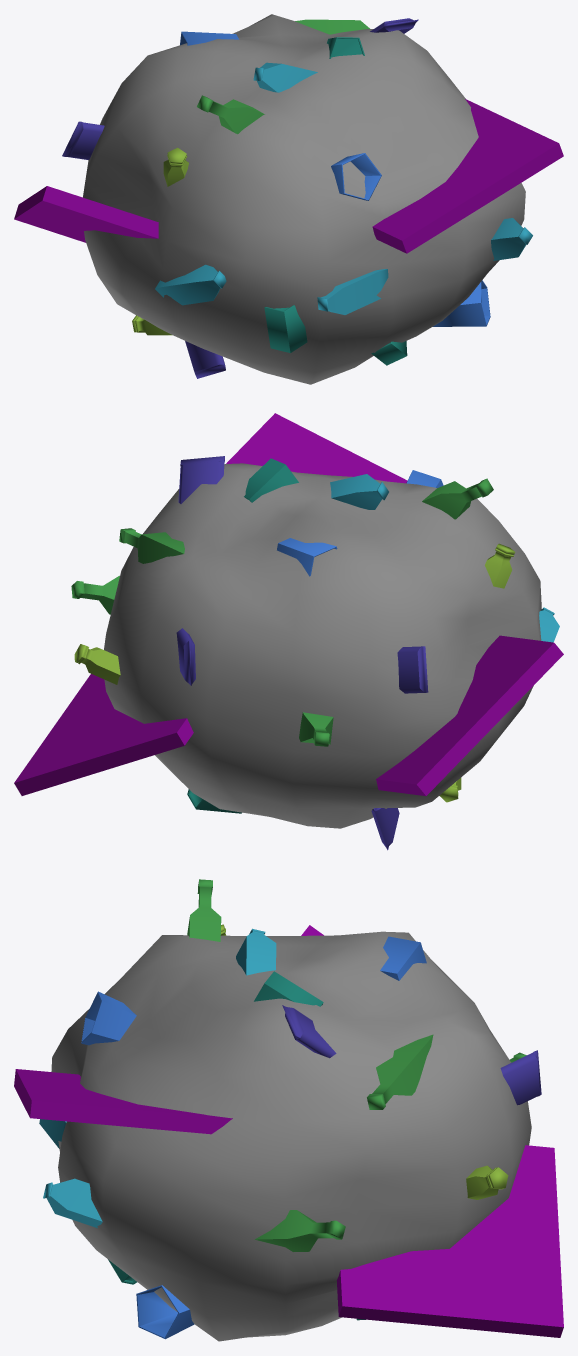
The model's file is Garbage_Pile.fbx.
The picture shows the model from 3 angles, top to bottom: view 1: azimuth 30°, elevation 25°; view 2: azimuth 150°, elevation 25°; view 3: azimuth 270°, elevation 25°; orthographic projection. The views are drawn at different scales.
Parts seen in each view (by area): view 1: Garbage Lump; view 2: Garbage Lump; view 3: Garbage Lump.
Part boxes in pixels (x1=…): Garbage Lump: x1=14, y1=14, x2=563, y2=384; Garbage Lump: x1=14, y1=413, x2=563, y2=850; Garbage Lump: x1=14, y1=879, x2=563, y2=1341.
Size of the model in its own units: 342 by 234 by 310.
